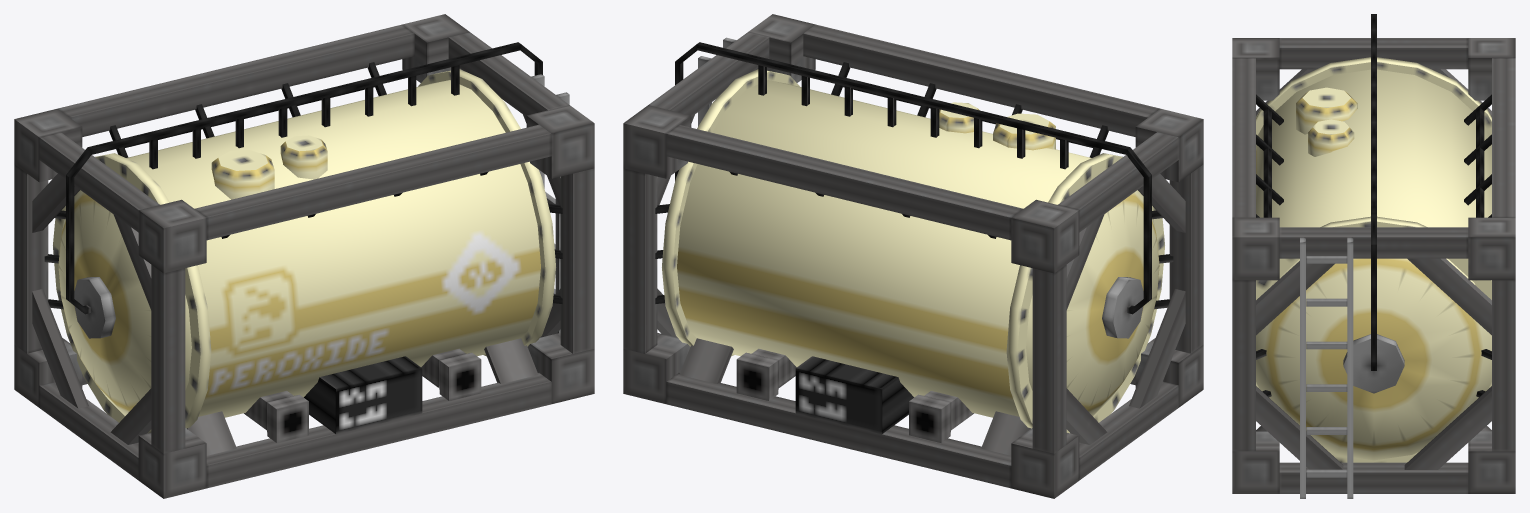
The model's file is machine_fluidtank_fluid_4.obj.
3 renders of one model, left to right at view 1: azimuth 30°, elevation 25°; view 2: azimuth 150°, elevation 25°; view 3: azimuth 270°, elevation 25°, orthographic. The views are drawn at different scales.
Visible parts, largest first — view 1: Frame, Tank; view 2: Frame, Tank; view 3: Frame, Tank.
Part boxes in pixels (x1,y1,x2,y2): Frame: [14, 14, 594, 498]; Tank: [53, 69, 555, 433]; Frame: [623, 14, 1203, 498]; Tank: [662, 69, 1164, 433]; Frame: [1232, 14, 1515, 498]; Tank: [1256, 57, 1491, 462].
Bounding box in the file's own units: 5.5 × 3.28 × 3.
